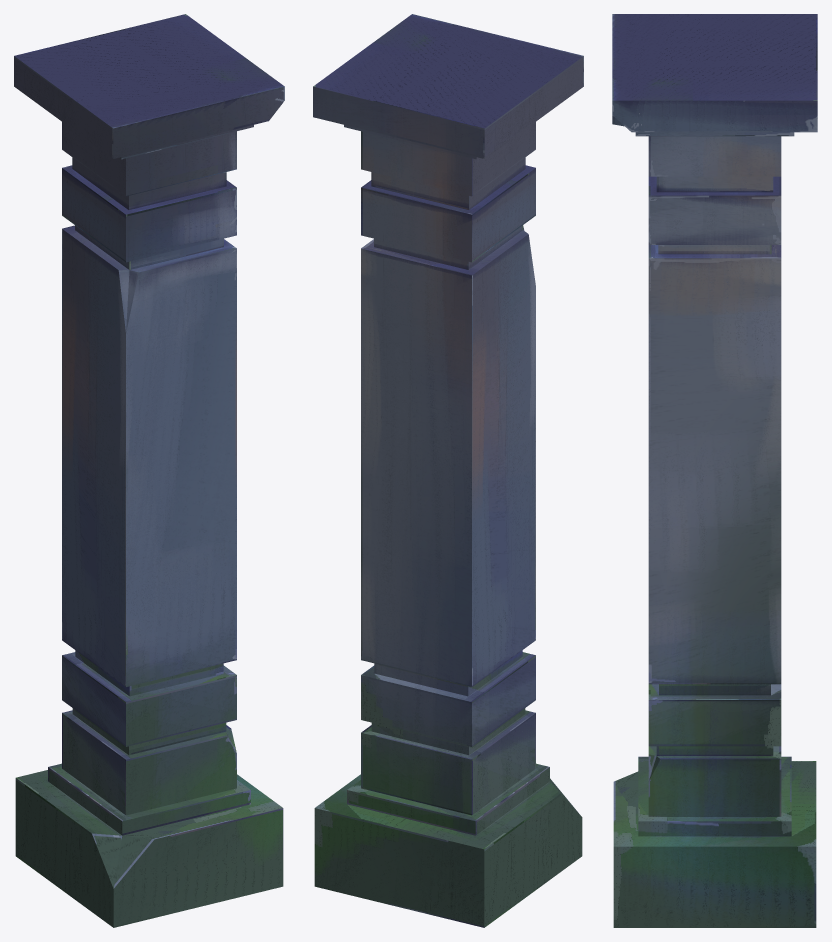
The model's file is pillar02 2.fbx.
3 views of the same model, side by side, from view 1: azimuth 30°, elevation 25°; view 2: azimuth 150°, elevation 25°; view 3: azimuth 270°, elevation 25° (orthographic). The views are drawn at different scales.
Parts seen in each view (by area): view 1: Pillar_03; view 2: Pillar_03; view 3: Pillar_03.
Part boxes in pixels (x1,y1,x2,y2): Pillar_03: (14, 14, 284, 927); Pillar_03: (313, 14, 583, 927); Pillar_03: (612, 14, 817, 927).
Size of the model in its own units: 89.19 by 397 by 89.19.
